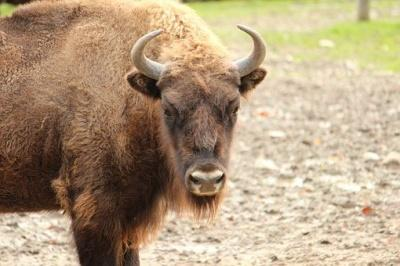buffalo: (0, 0, 266, 265)
